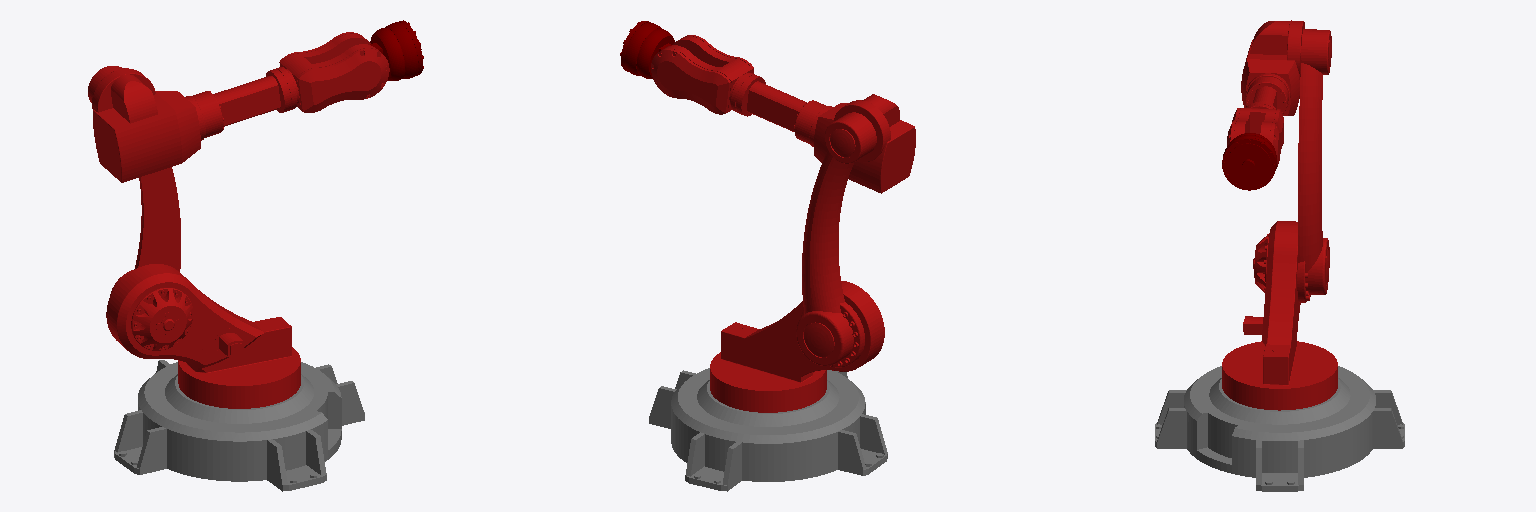
URDF robot description (arm):
<?xml version="1.0" ?>
<!-- =================================================================================== -->
<!-- |    This document was autogenerated by xacro from src/arm_description/urdf/arm.urdf.xacro | -->
<!-- |    EDITING THIS FILE BY HAND IS NOT RECOMMENDED                                 | -->
<!-- =================================================================================== -->
<robot name="arm">
  <!-- Colours taken from arm_assembly.step (COLOUR_RGB, 8-bit value / 255). -->
  <!-- base_link body: Opaque(128,128,128) -->
  <material name="base_grey">
    <color rgba="0.501961 0.501961 0.501961 1.0"/>
  </material>
  <!-- turret/upper_arm/forearm/wrist_roll body: Opaque(177,25,25) -->
  <material name="arm_red">
    <color rgba="0.694118 0.098039 0.098039 1.0"/>
  </material>
  <!-- wrist_pitch face colour: Opaque(128,0,0) -->
  <material name="wrist_maroon">
    <color rgba="0.501961 0.0 0.0 1.0"/>
  </material>
  <link name="world"/>
  <joint name="world_to_base_joint" type="fixed">
    <origin rpy="0 0 0" xyz="0 0 0"/>
    <parent link="world"/>
    <child link="base_link"/>
  </joint>
  <link name="base_link">
    <inertial>
      <origin rpy="0 0 0" xyz="-0.0013795904255898897 0.006144590422410405 0.03494970550616308"/>
      <mass value="46.82820490588493"/>
      <inertia ixx="0.294832" ixy="-0.006274" ixz="0.000229" iyy="0.294832" iyz="-0.000229" izz="0.533146"/>
    </inertial>
    <visual>
      <origin rpy="0 0 0" xyz="0 0 0"/>
      <geometry>
        <mesh filename="package://arm_description/meshes/base_link.stl" scale="0.001 0.001 0.001"/>
      </geometry>
      <material name="base_grey"/>
    </visual>
    <collision>
      <origin rpy="0 0 0" xyz="0 0 0"/>
      <geometry>
        <mesh filename="package://arm_description/meshes/base_link.stl" scale="0.001 0.001 0.001"/>
      </geometry>
    </collision>
  </link>
  <link name="turret_link">
    <inertial>
      <origin rpy="0 0 0" xyz="-0.053876625091077754 0.0009658460288886374 0.05659360650225023"/>
      <mass value="17.939967472684376"/>
      <inertia ixx="0.080055" ixy="0.003027" ixz="0.05871" iyy="0.161621" iyz="-0.001566" izz="0.117393"/>
    </inertial>
    <visual>
      <origin rpy="0 0 0" xyz="-0.0 -0.004765 -0.104765"/>
      <geometry>
        <mesh filename="package://arm_description/meshes/turret_link.stl" scale="0.001 0.001 0.001"/>
      </geometry>
      <material name="arm_red"/>
    </visual>
    <collision>
      <origin rpy="0 0 0" xyz="-0.0 -0.004765 -0.104765"/>
      <geometry>
        <mesh filename="package://arm_description/meshes/turret_link.stl" scale="0.001 0.001 0.001"/>
      </geometry>
    </collision>
  </link>
  <link name="upper_arm_link">
    <inertial>
      <origin rpy="0 0 0" xyz="0.018624083162768285 0.03495204005376849 0.14159796377041436"/>
      <mass value="7.270322327784246"/>
      <inertia ixx="0.139987" ixy="0.000561" ixz="-0.002667" iyy="0.14366" iyz="0.00041" izz="0.005957"/>
    </inertial>
    <visual>
      <origin rpy="0 0 0" xyz="0.138256 -0.016774 -0.227814"/>
      <geometry>
        <mesh filename="package://arm_description/meshes/upper_arm_link.stl" scale="0.001 0.001 0.001"/>
      </geometry>
      <material name="arm_red"/>
    </visual>
    <collision>
      <origin rpy="0 0 0" xyz="0.138256 -0.016774 -0.227814"/>
      <geometry>
        <mesh filename="package://arm_description/meshes/upper_arm_link.stl" scale="0.001 0.001 0.001"/>
      </geometry>
    </collision>
  </link>
  <link name="forearm_link">
    <inertial>
      <origin rpy="0 0 0" xyz="0.042815756990162296 -0.02805142576867653 -0.037583917865223415"/>
      <mass value="11.828374188557241"/>
      <inertia ixx="0.017388" ixy="0.005705" ixz="0.003843" iyy="0.072426" iyz="-0.001455" izz="0.068435"/>
    </inertial>
    <visual>
      <origin rpy="0 0 0" xyz="0.138256 -0.016774 -0.577814"/>
      <geometry>
        <mesh filename="package://arm_description/meshes/forearm_link.stl" scale="0.001 0.001 0.001"/>
      </geometry>
      <material name="arm_red"/>
    </visual>
    <collision>
      <origin rpy="0 0 0" xyz="0.138256 -0.016774 -0.577814"/>
      <geometry>
        <mesh filename="package://arm_description/meshes/forearm_link.stl" scale="0.001 0.001 0.001"/>
      </geometry>
    </collision>
  </link>
  <link name="wrist_roll_link">
    <inertial>
      <origin rpy="0 0 0" xyz="0.08741095338802049 -0.00769183748725593 4.2666050170669934e-07"/>
      <mass value="4.383038580888578"/>
      <inertia ixx="0.00427" ixy="0.000502" ixz="-0.0" iyy="0.009794" iyz="-0.0" izz="0.010983"/>
    </inertial>
    <visual>
      <origin rpy="0 0 0" xyz="-0.084647 0.028566 -0.532814"/>
      <geometry>
        <mesh filename="package://arm_description/meshes/wrist_roll_link.stl" scale="0.001 0.001 0.001"/>
      </geometry>
      <material name="arm_red"/>
    </visual>
    <collision>
      <origin rpy="0 0 0" xyz="-0.084647 0.028566 -0.532814"/>
      <geometry>
        <mesh filename="package://arm_description/meshes/wrist_roll_link.stl" scale="0.001 0.001 0.001"/>
      </geometry>
    </collision>
  </link>
  <link name="wrist_pitch_link">
    <inertial>
      <origin rpy="0 0 0" xyz="0.057550382684715545 -0.016880711992809355 4.262487167672191e-07"/>
      <mass value="2.574095398898211"/>
      <inertia ixx="0.001826" ixy="0.000102" ixz="-0.0" iyy="0.002708" iyz="0.0" izz="0.002693"/>
    </inertial>
    <visual>
      <origin rpy="0 0 0" xyz="-0.215241 0.027363 -0.532814"/>
      <geometry>
        <mesh filename="package://arm_description/meshes/wrist_pitch_link.stl" scale="0.001 0.001 0.001"/>
      </geometry>
      <material name="wrist_maroon"/>
    </visual>
    <collision>
      <origin rpy="0 0 0" xyz="-0.215241 0.027363 -0.532814"/>
      <geometry>
        <mesh filename="package://arm_description/meshes/wrist_pitch_link.stl" scale="0.001 0.001 0.001"/>
      </geometry>
    </collision>
  </link>
  <joint name="base_yaw_joint" type="revolute">
    <origin rpy="0 0 0" xyz="0.0 0.004765 0.104765"/>
    <parent link="base_link"/>
    <child link="turret_link"/>
    <axis xyz="0.0 0.0 1.0"/>
    <limit effort="100" lower="-3.141592" upper="3.141592" velocity="100"/>
  </joint>
  <joint name="shoulder_pitch_joint" type="revolute">
    <origin rpy="0 0 0" xyz="-0.138256 0.012009 0.123049"/>
    <parent link="turret_link"/>
    <child link="upper_arm_link"/>
    <axis xyz="0.086538 0.996249 0.0"/>
    <limit effort="100" lower="4.479" upper="7.833" velocity="100"/>
  </joint>
  <joint name="elbow_pitch_joint" type="revolute">
    <origin rpy="0 0 0" xyz="0.0 0.0 0.35"/>
    <parent link="upper_arm_link"/>
    <child link="forearm_link"/>
    <axis xyz="-0.086538 -0.996249 -0.0"/>
    <limit effort="100" lower="-0.785398" upper="4.276057" velocity="100"/>
  </joint>
  <joint name="wrist_roll_joint" type="revolute">
    <origin rpy="0 0 0" xyz="0.222903 -0.04534 -0.045"/>
    <parent link="forearm_link"/>
    <child link="wrist_roll_link"/>
    <axis xyz="0.996249 -0.086538 -0.0"/>
    <limit effort="100" lower="-3.141592" upper="3.141592" velocity="100"/>
  </joint>
  <joint name="wrist_pitch_joint" type="revolute">
    <origin rpy="0 0 0" xyz="0.130594 0.001203 0.0"/>
    <parent link="wrist_roll_link"/>
    <child link="wrist_pitch_link"/>
    <axis xyz="-0.086538 -0.996249 0.0"/>
    <limit effort="100" lower="-1.570796" upper="1.570796" velocity="100"/>
  </joint>
  <ros2_control name="ArmSystem" type="system">
    <hardware>
      <plugin>mock_components/GenericSystem</plugin>
    </hardware>
    <joint name="base_yaw_joint">
      <command_interface name="position"/>
      <state_interface name="position">
        <param name="initial_value">0.0</param>
      </state_interface>
      <state_interface name="velocity"/>
    </joint>
    <joint name="shoulder_pitch_joint">
      <command_interface name="position"/>
      <state_interface name="position">
        <param name="initial_value">6.26</param>
      </state_interface>
      <state_interface name="velocity"/>
    </joint>
    <joint name="elbow_pitch_joint">
      <command_interface name="position"/>
      <state_interface name="position">
        <param name="initial_value">1.572</param>
      </state_interface>
      <state_interface name="velocity"/>
    </joint>
    <joint name="wrist_roll_joint">
      <command_interface name="position"/>
      <state_interface name="position">
        <param name="initial_value">0.0</param>
      </state_interface>
      <state_interface name="velocity"/>
    </joint>
    <joint name="wrist_pitch_joint">
      <command_interface name="position"/>
      <state_interface name="position">
        <param name="initial_value">0.0</param>
      </state_interface>
      <state_interface name="velocity"/>
    </joint>
  </ros2_control>
</robot>

--- What the picture shows (computed from the rendered views, not written in the file) ---
The picture shows the robot from 3 angles, left to right: view 1: azimuth 30°, elevation 25°; view 2: azimuth 150°, elevation 25°; view 3: azimuth 270°, elevation 25°; orthographic projection.
Robot: arm — 7 links, 6 joints (5 revolute, 1 fixed); root link world; default pose: all joints at 0 but 1 set to mid-range because 0 is outside their limits (shoulder_pitch_joint = 6.16).
Visible links, largest first — view 1: base_link, turret_link, forearm_link, wrist_roll_link, upper_arm_link, wrist_pitch_link; view 2: base_link, upper_arm_link, turret_link, forearm_link, wrist_roll_link, wrist_pitch_link; view 3: base_link, turret_link, upper_arm_link, forearm_link, wrist_pitch_link, wrist_roll_link.
Boxes of the visible links, x1=… form: base_link: x1=114, y1=360, x2=364, y2=491; turret_link: x1=106, y1=264, x2=300, y2=408; forearm_link: x1=92, y1=67, x2=297, y2=182; wrist_roll_link: x1=279, y1=32, x2=389, y2=112; upper_arm_link: x1=88, y1=66, x2=180, y2=295; wrist_pitch_link: x1=370, y1=20, x2=423, y2=80; base_link: x1=649, y1=368, x2=887, y2=491; upper_arm_link: x1=796, y1=112, x2=876, y2=367; turret_link: x1=710, y1=281, x2=884, y2=412; forearm_link: x1=731, y1=73, x2=915, y2=193; wrist_roll_link: x1=651, y1=35, x2=753, y2=114; wrist_pitch_link: x1=620, y1=21, x2=674, y2=78; base_link: x1=1155, y1=366, x2=1404, y2=491; turret_link: x1=1222, y1=221, x2=1337, y2=410; upper_arm_link: x1=1297, y1=29, x2=1331, y2=302; forearm_link: x1=1241, y1=20, x2=1304, y2=115; wrist_pitch_link: x1=1222, y1=133, x2=1276, y2=190; wrist_roll_link: x1=1227, y1=108, x2=1283, y2=168.
Bounding box of the posed robot: 0.514 × 0.3905 × 0.6339 m (x, y, z).
6 mesh visuals loaded from 6 distinct referenced files (6 binary STL).
